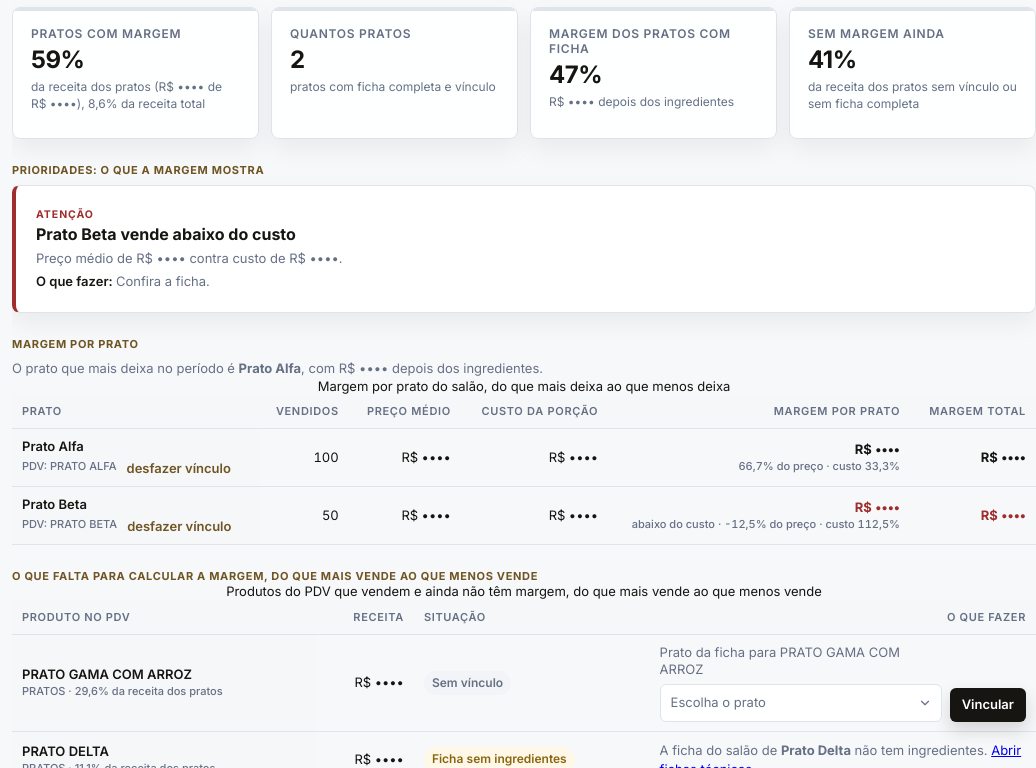
Test: MargemPanel: o que falta › falha ao vincular: erro anunciado na linha, e o botao volta
(page scrolled)
Select "Prato Gama" in the dropdown labelled "Prato da ficha para PRATO GAMA COM ARROZ". click: (801, 703)
box: [660,684,942,722]
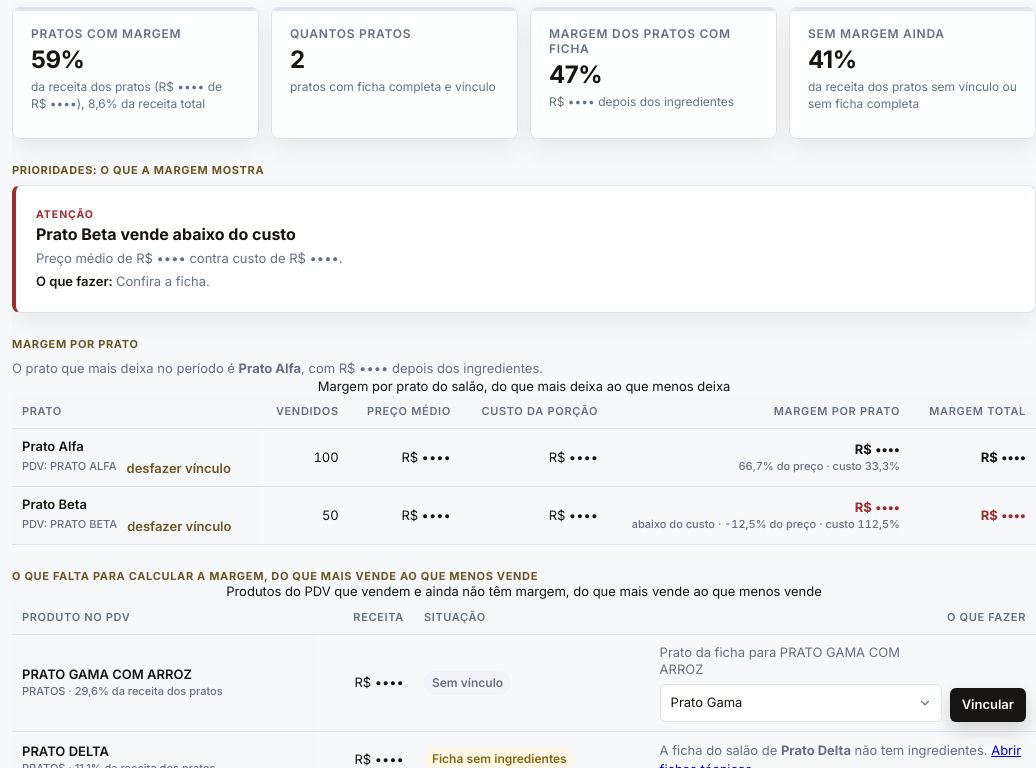
Click the button with aria-label "Vincular PRATO GAMA COM ARROZ". click: (988, 705)
box: [950,688,1026,722]
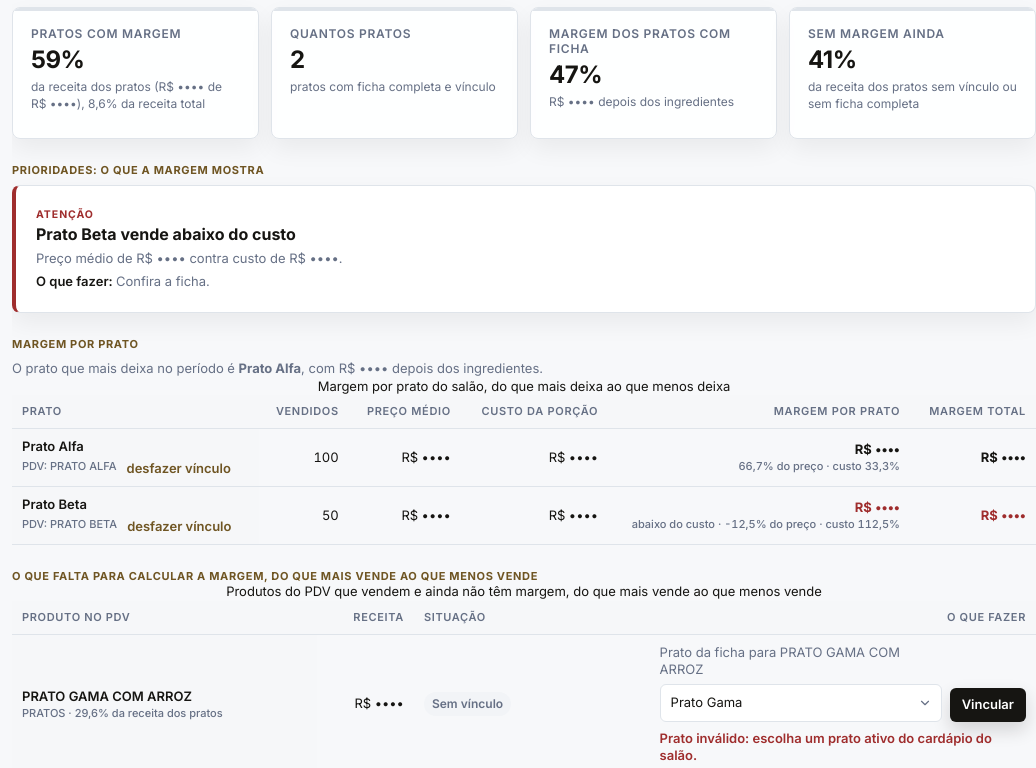
Now the message shows "Prato inválido", box [660,730,992,763]
